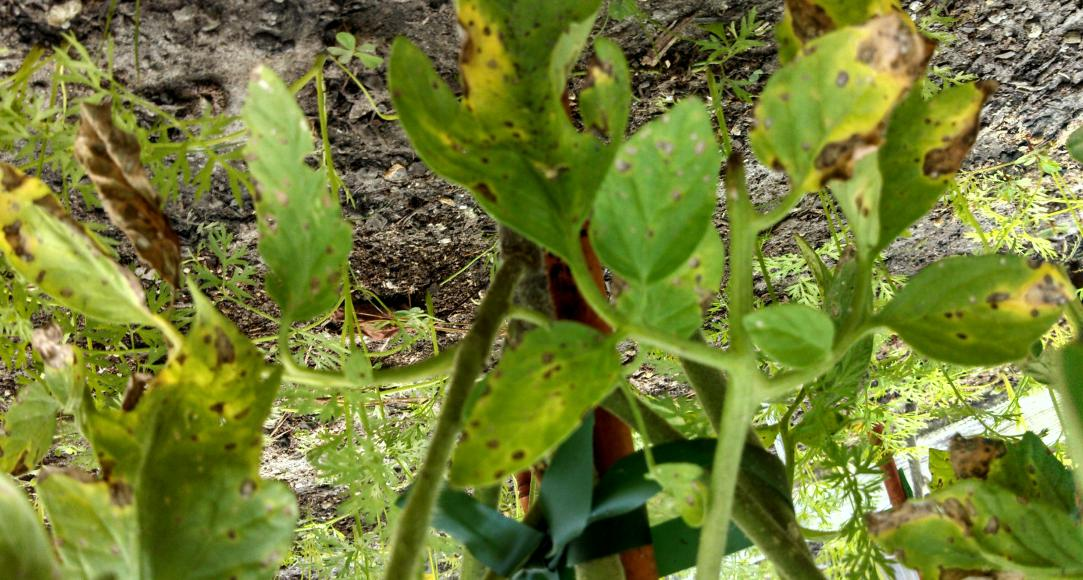Tomato Septoria leaf spot: (382, 0, 654, 263), (210, 25, 371, 368), (840, 54, 1028, 265), (738, 10, 910, 240), (435, 307, 630, 493), (583, 87, 735, 301), (886, 250, 1083, 380)
